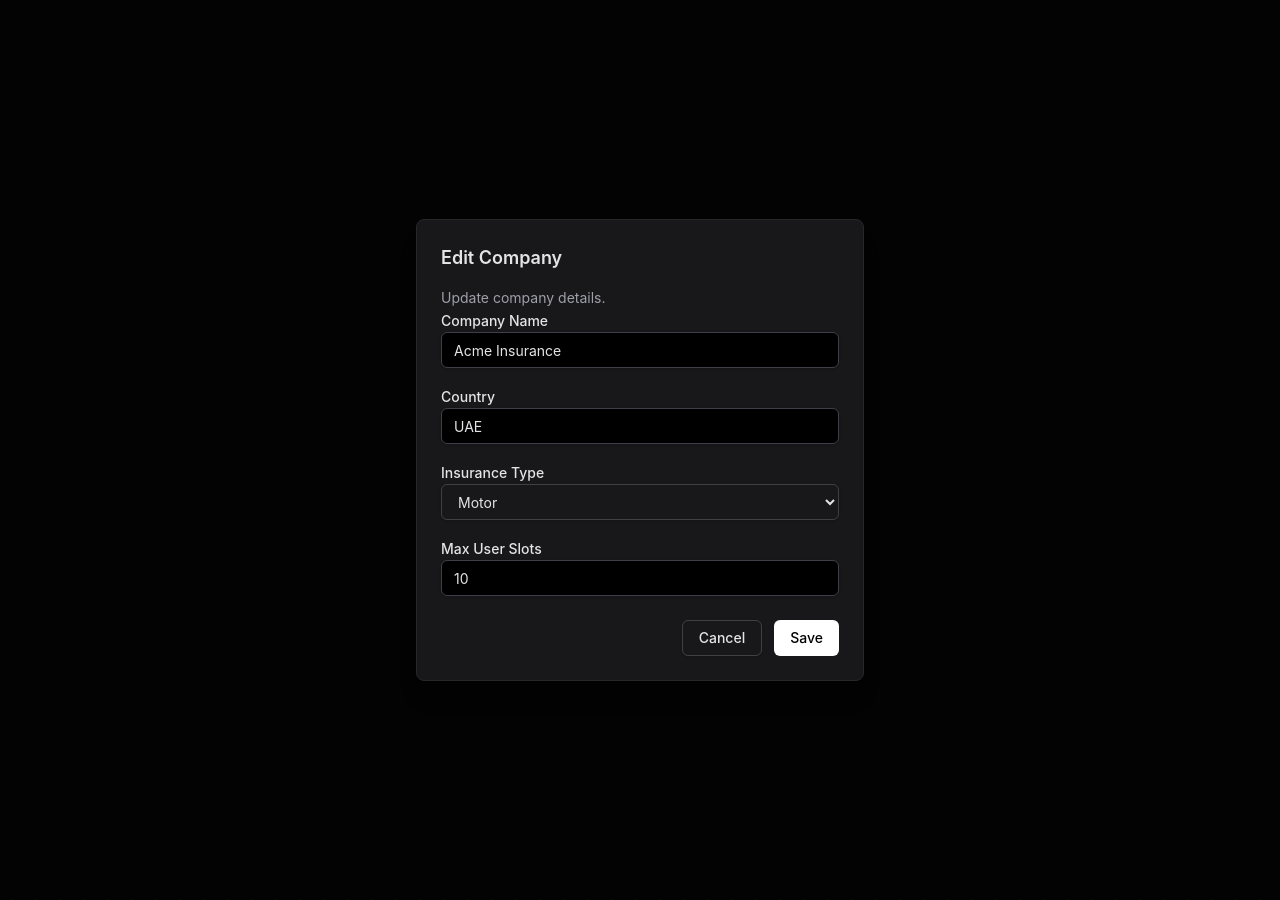
Test: EditCompanyDialog › Form validation › should require non-empty country
Clear the field showing "UAE". click: x=640, y=426
box: left=441, top=408, right=839, bottom=444
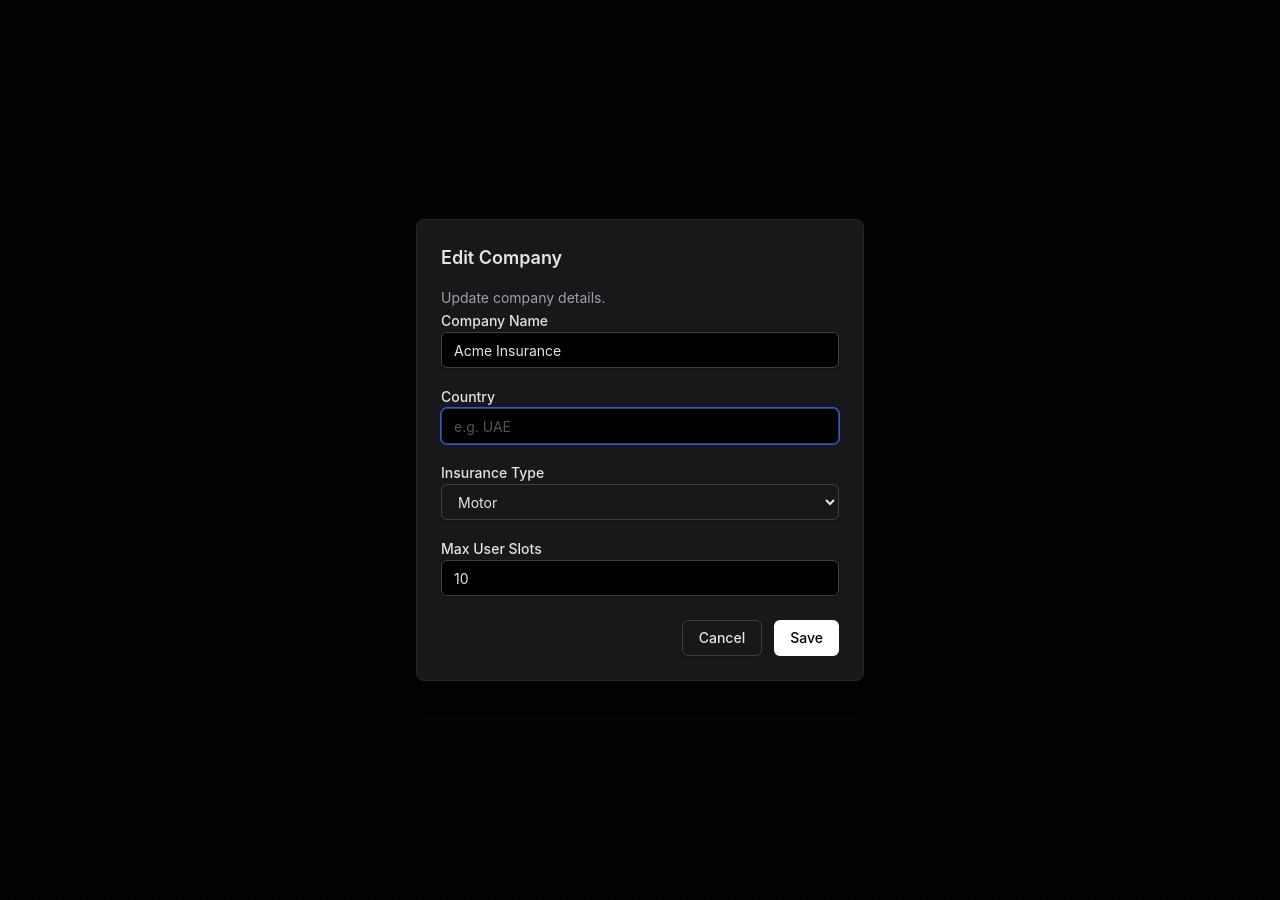
Click the button "Save". click: x=807, y=638
box: left=774, top=620, right=839, bottom=656
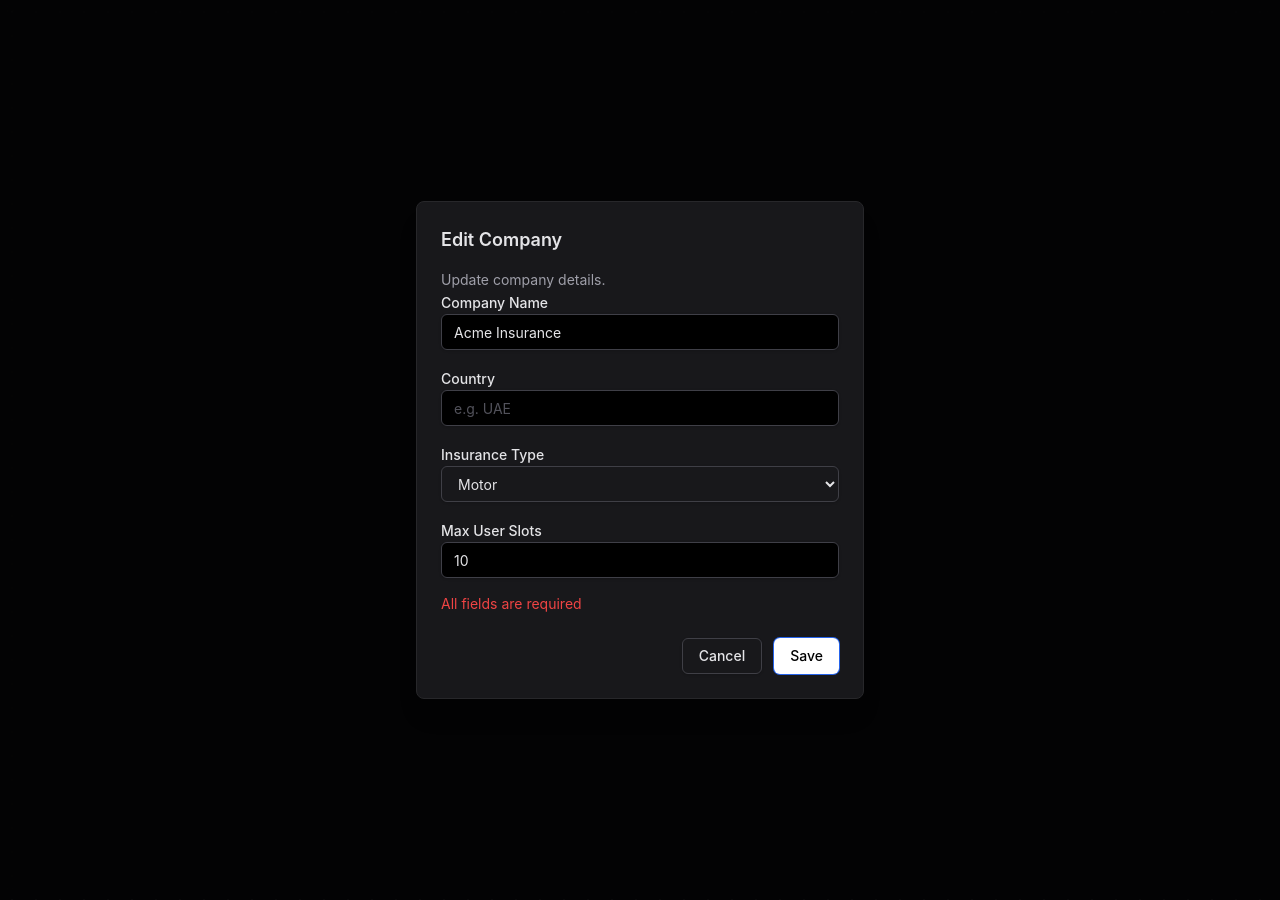
Result: the text "All fields are required" is shown at left=441, top=595, right=582, bottom=612
